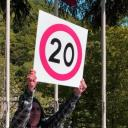speed_limit_20: (38, 22, 82, 82)
